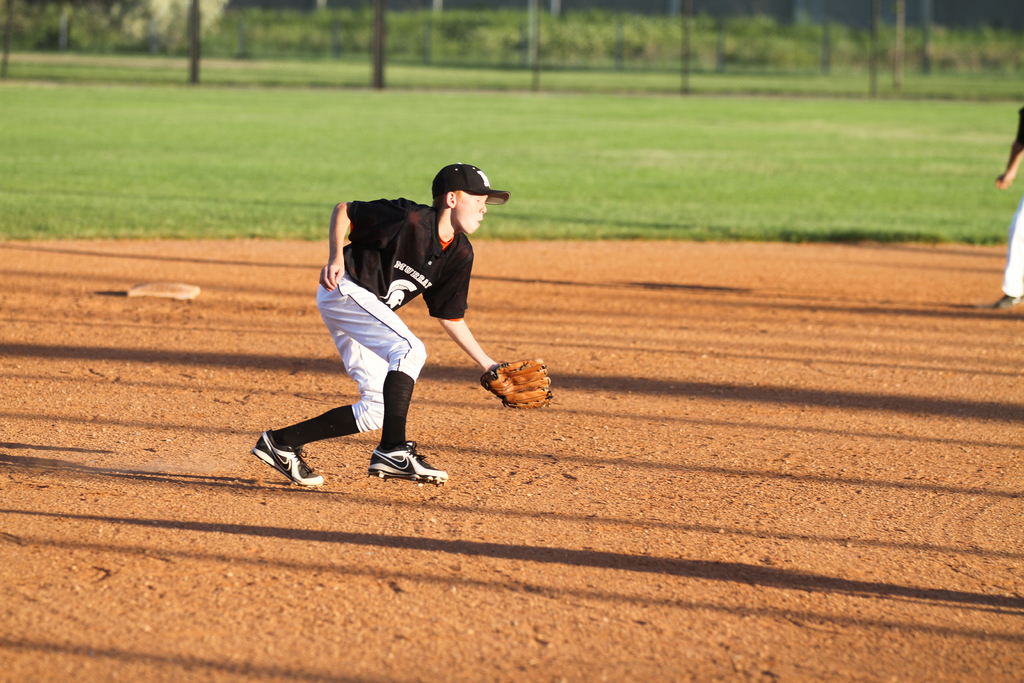Human_hand: (479, 350, 549, 403), (319, 261, 343, 293)
